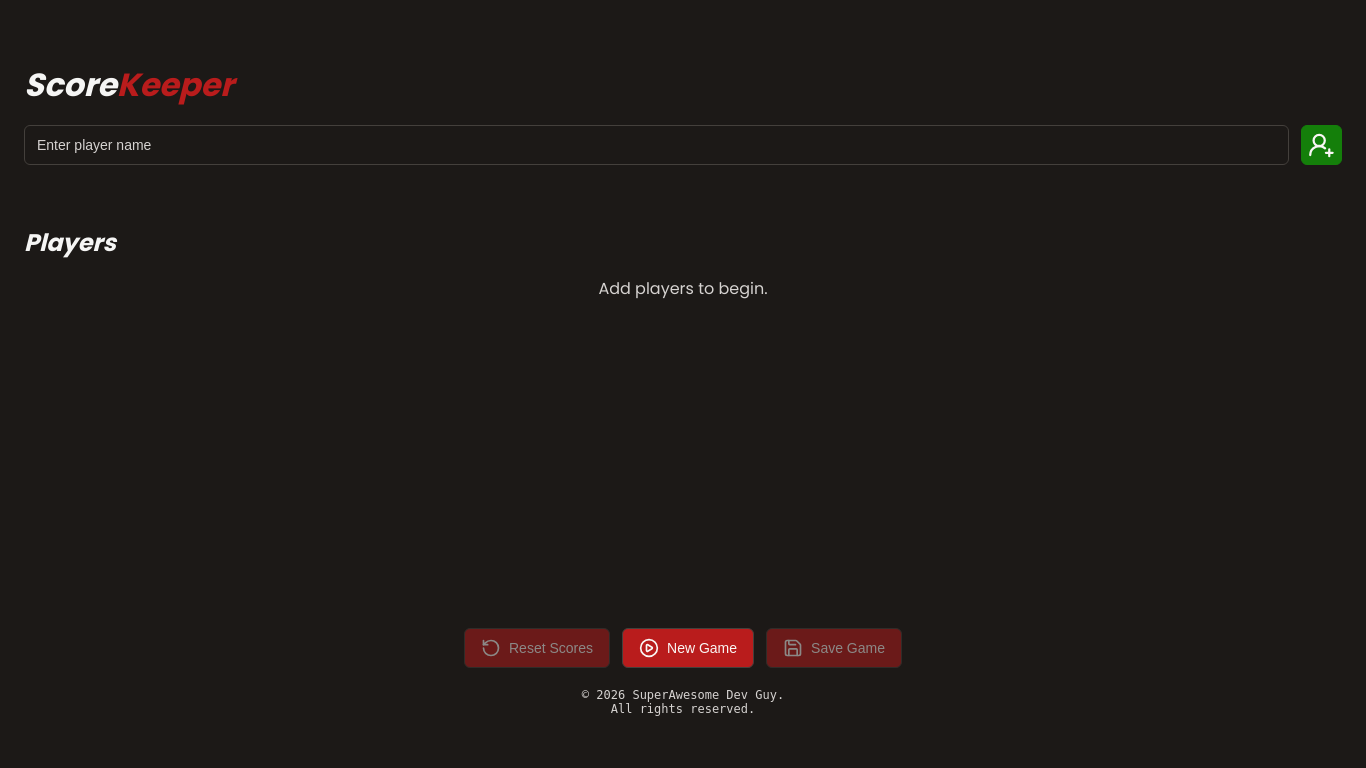
Test: ScorekeeperPage (integration) › shows toast when adding duplicate player name (case-insensitive)
This screenshot has width=1366, height=768.
Type "Bob" into the field with placeholder "Enter player name" at [657, 145], box [24, 125, 1289, 165]
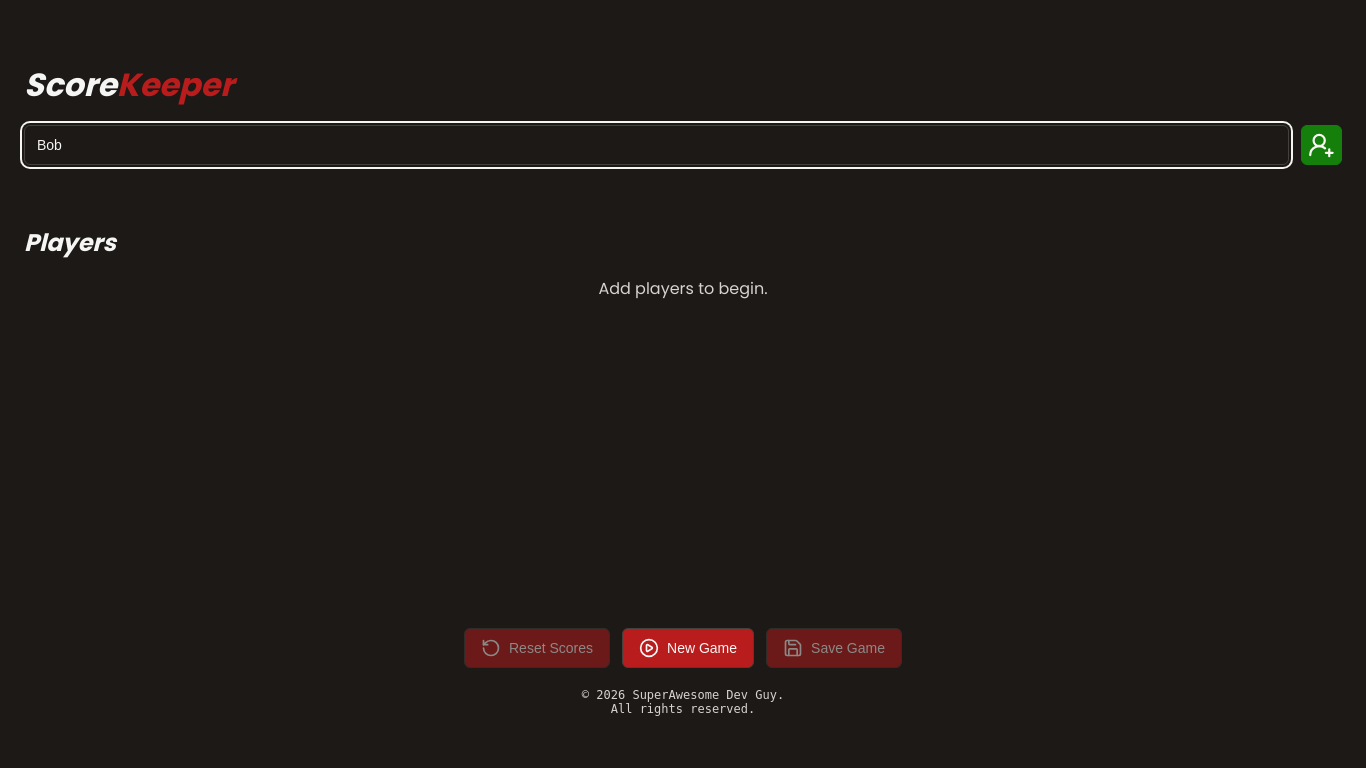
Click the button named "Add player" at [1322, 145], box [1301, 125, 1342, 165]
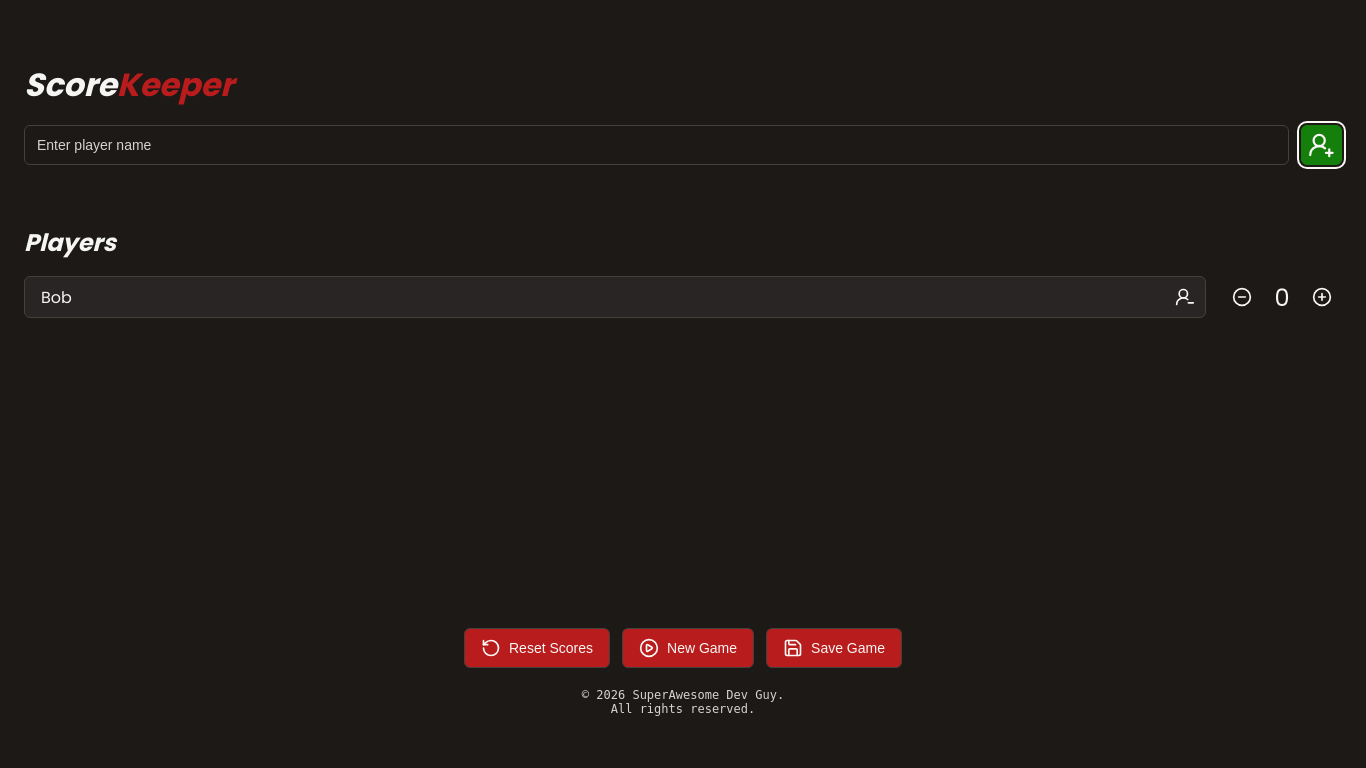
Type "bob" into the field with placeholder "Enter player name" at [657, 145], box [24, 125, 1289, 165]
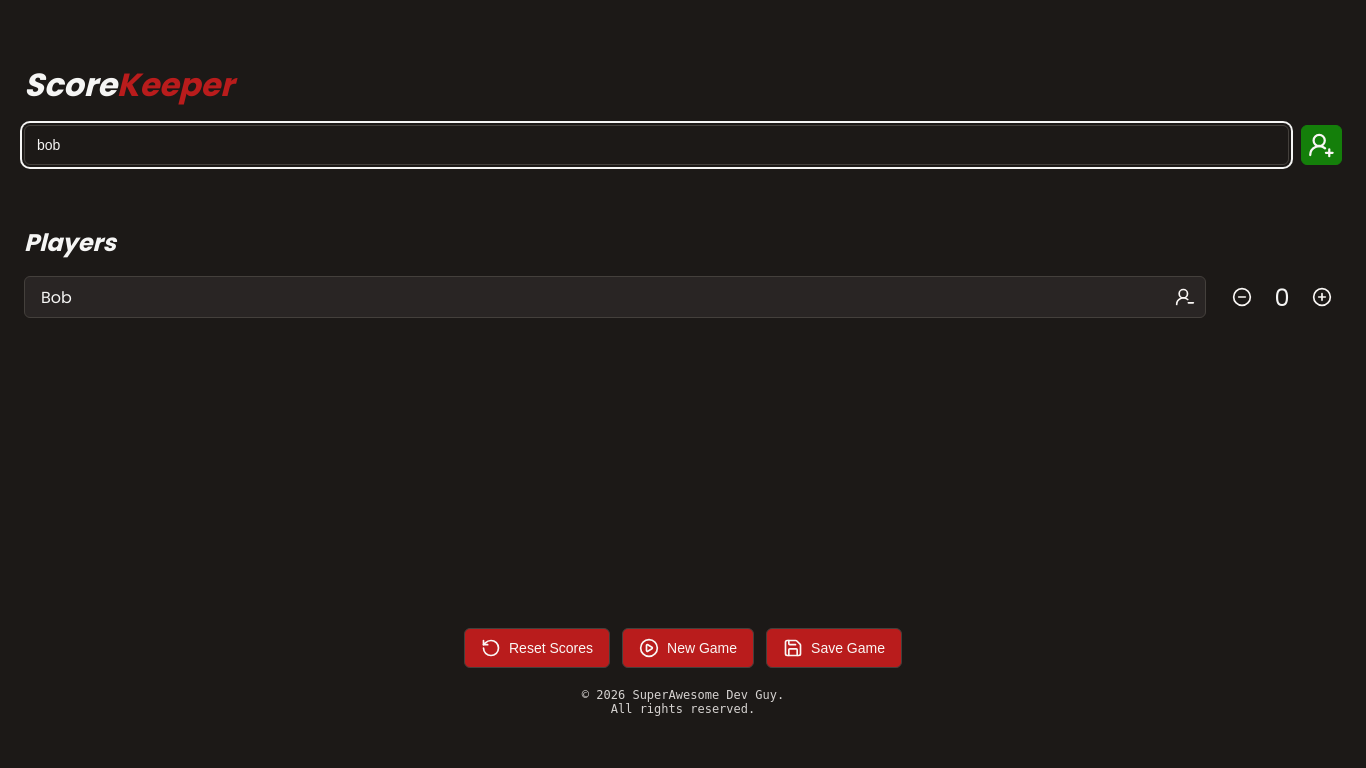
Click the button named "Add player" at [1322, 145], box [1301, 125, 1342, 165]
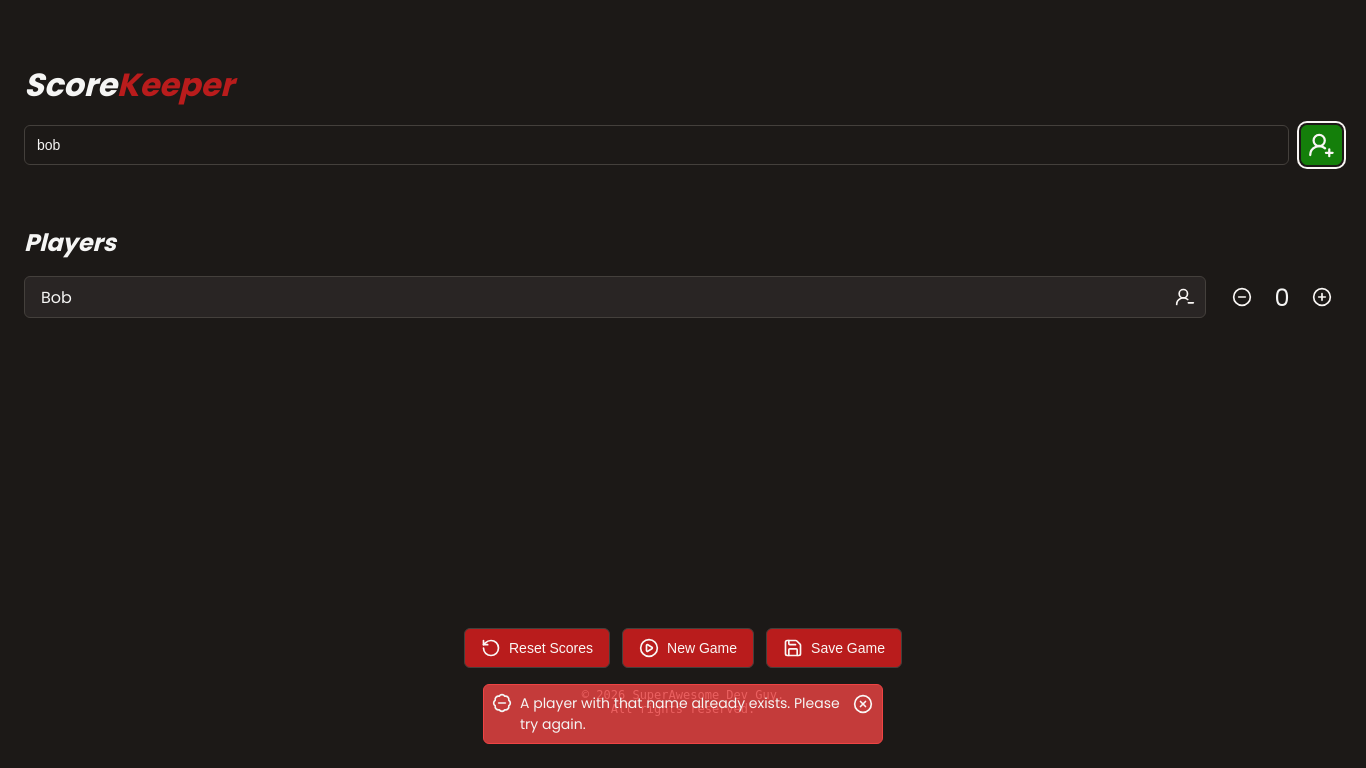
Expected: the text "A player with that name already exists. Please try again." is shown, [520, 693, 844, 735]
